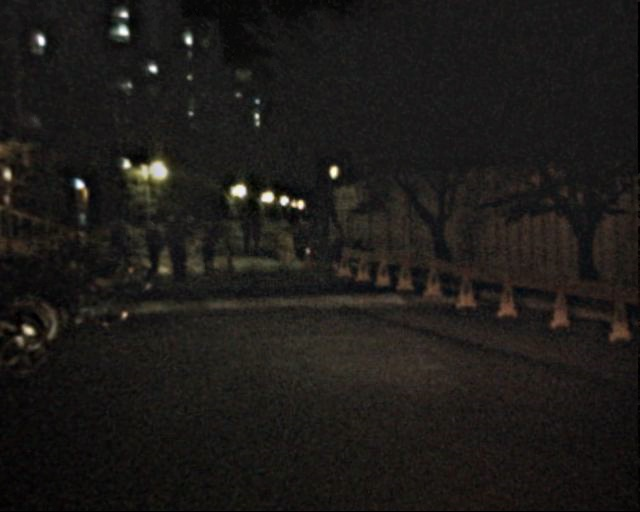person: (162, 212, 189, 279), (111, 213, 136, 275), (198, 224, 222, 282), (326, 223, 347, 274), (144, 218, 165, 269), (182, 211, 200, 255), (245, 216, 261, 256), (237, 219, 252, 256)
